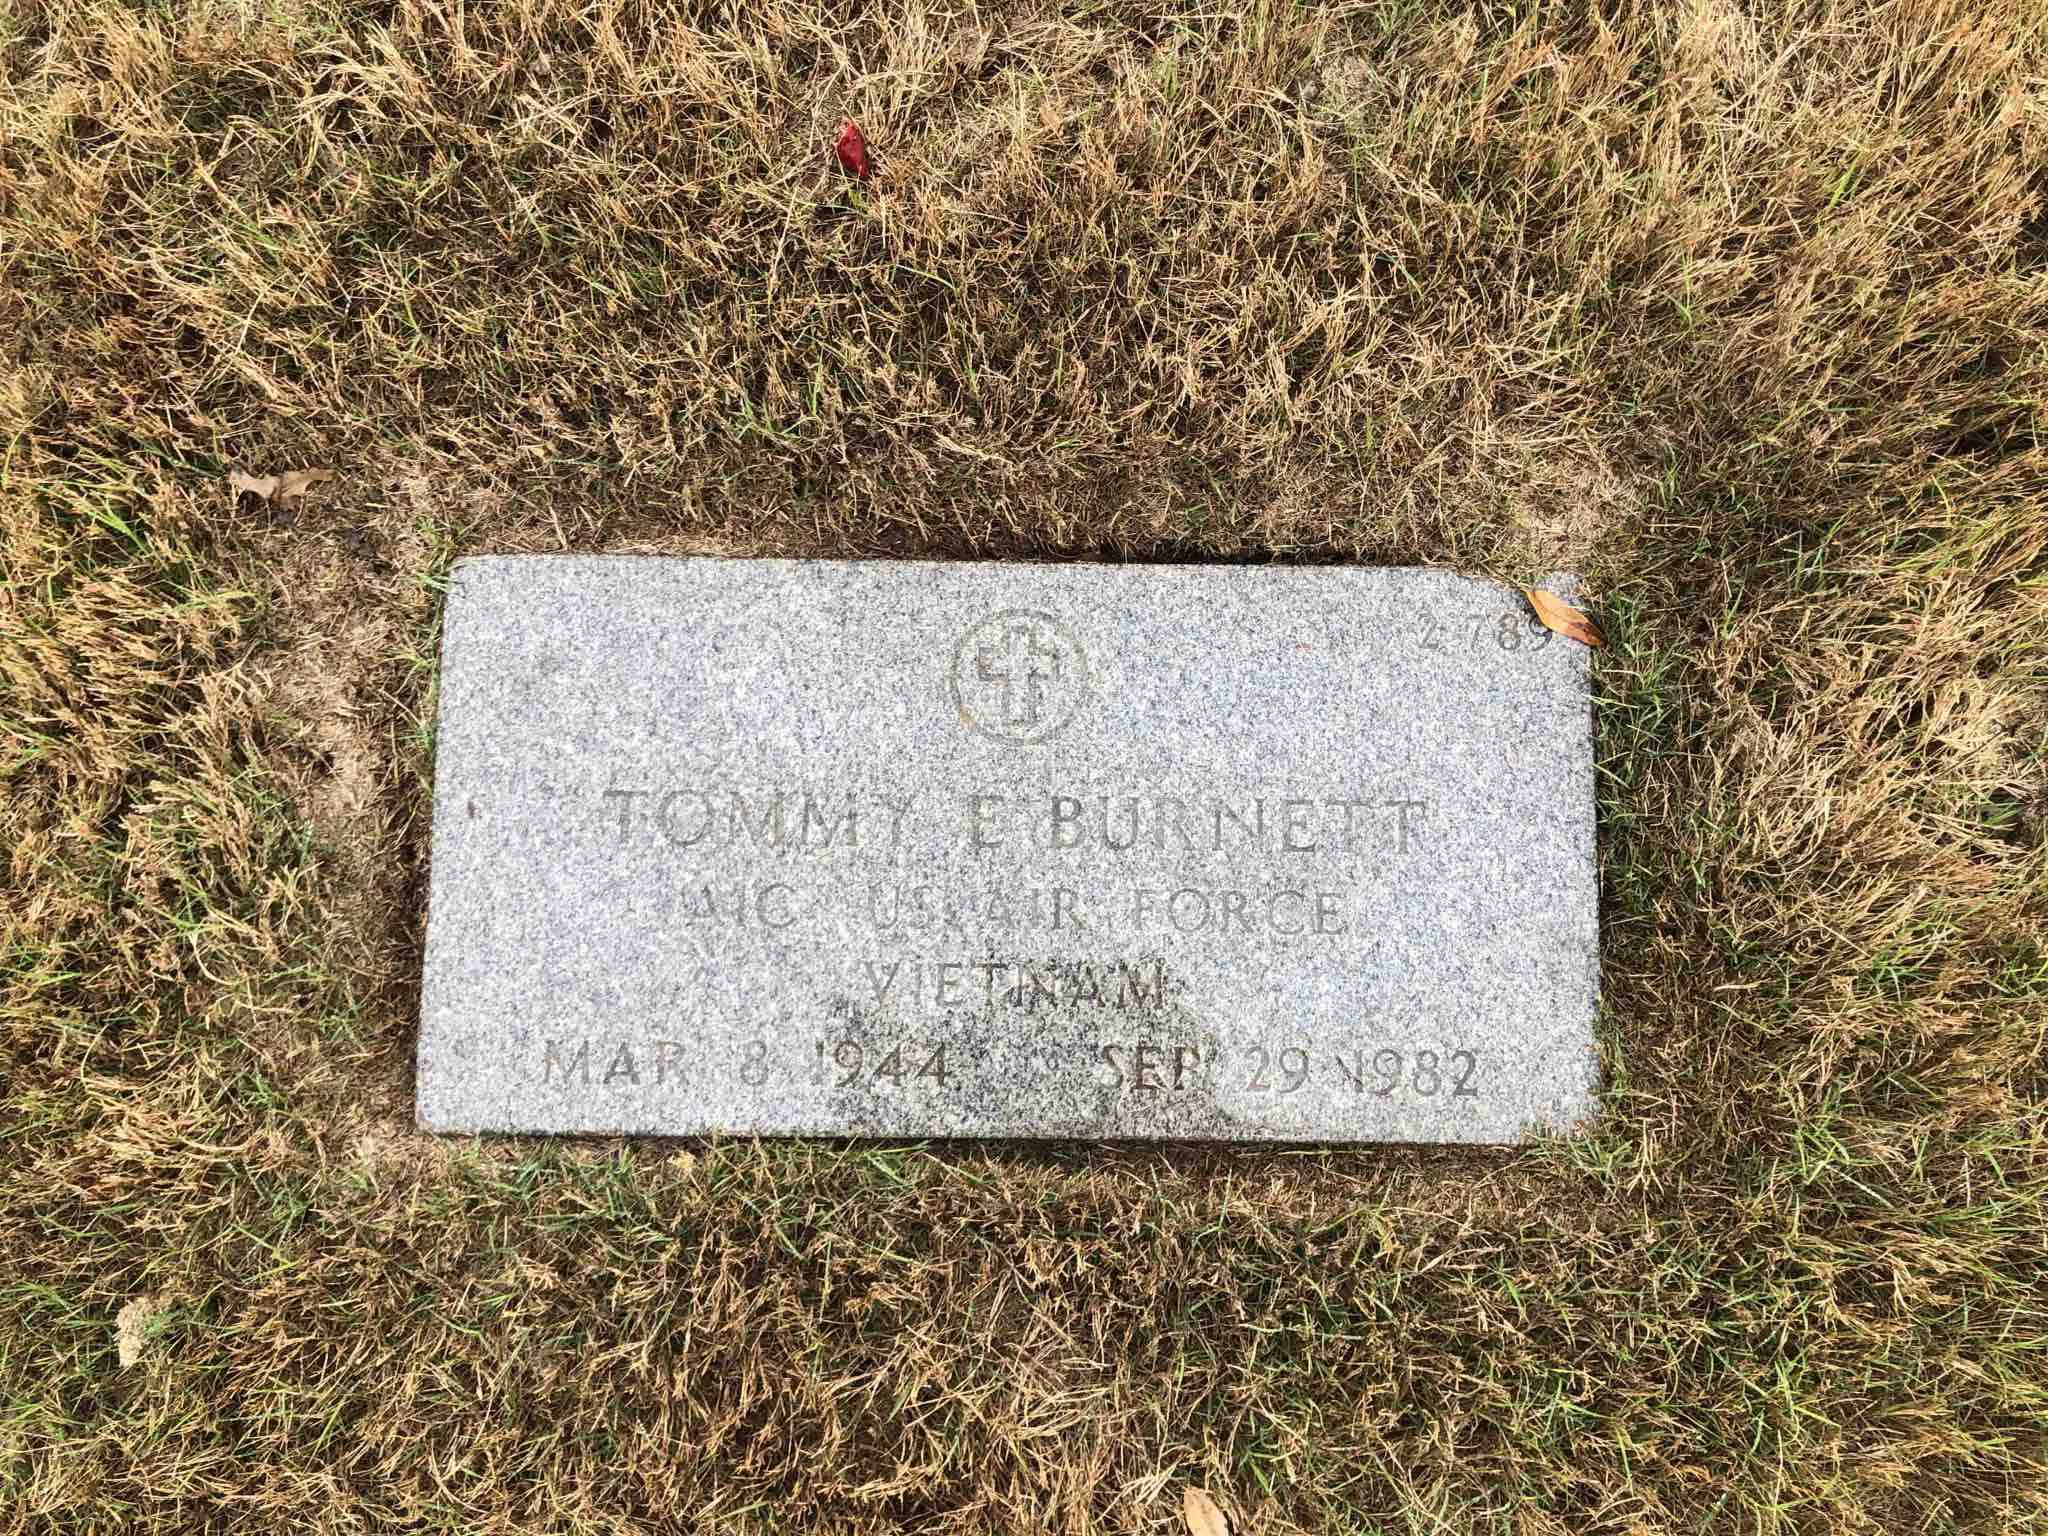flat: (416, 531, 1614, 1167)
